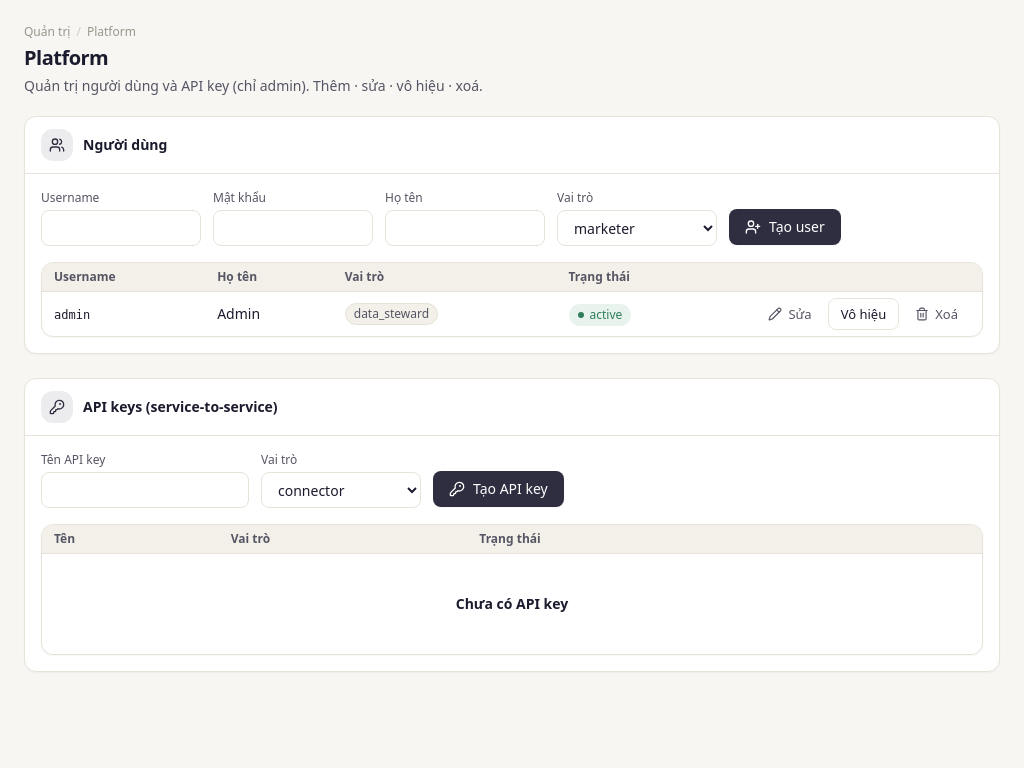
Test case: PlatformScreen › tạo API key hiển thị raw key MỘT lần
This screenshot has width=1024, height=768.
Step 1. Type "pos-connector" into the field named "tên api key" → (145, 490), box [41,472,249,508]
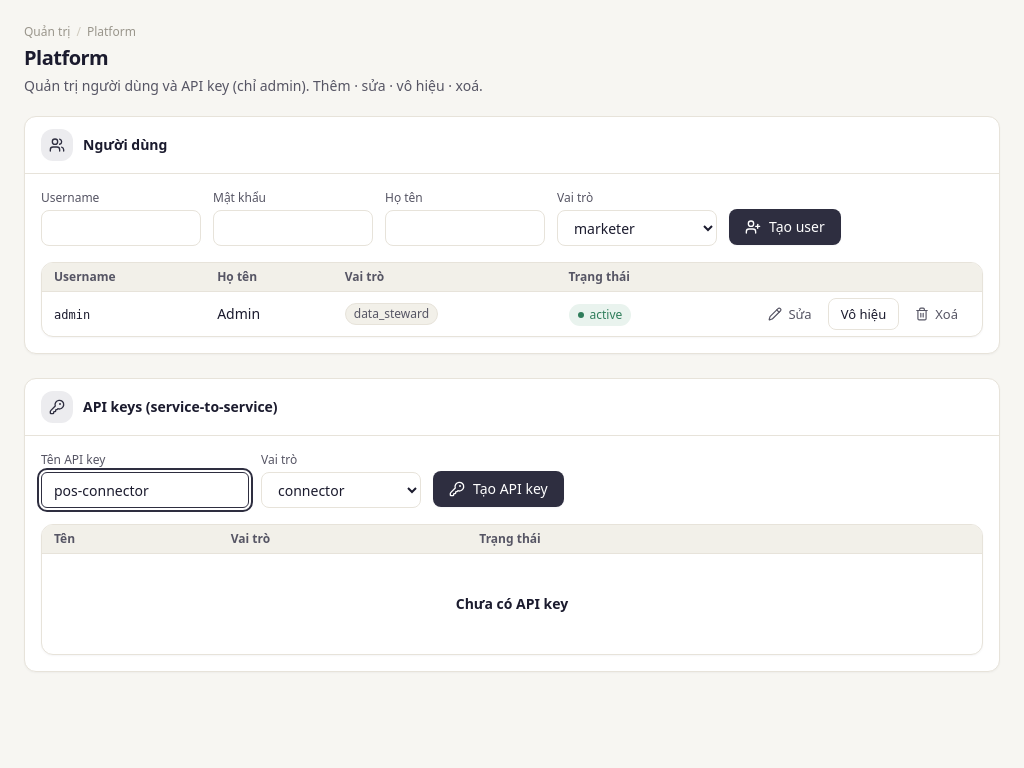
Step 2. Select "connector" in the dropdown named "vai trò api key" → (341, 490), box [261,472,421,508]
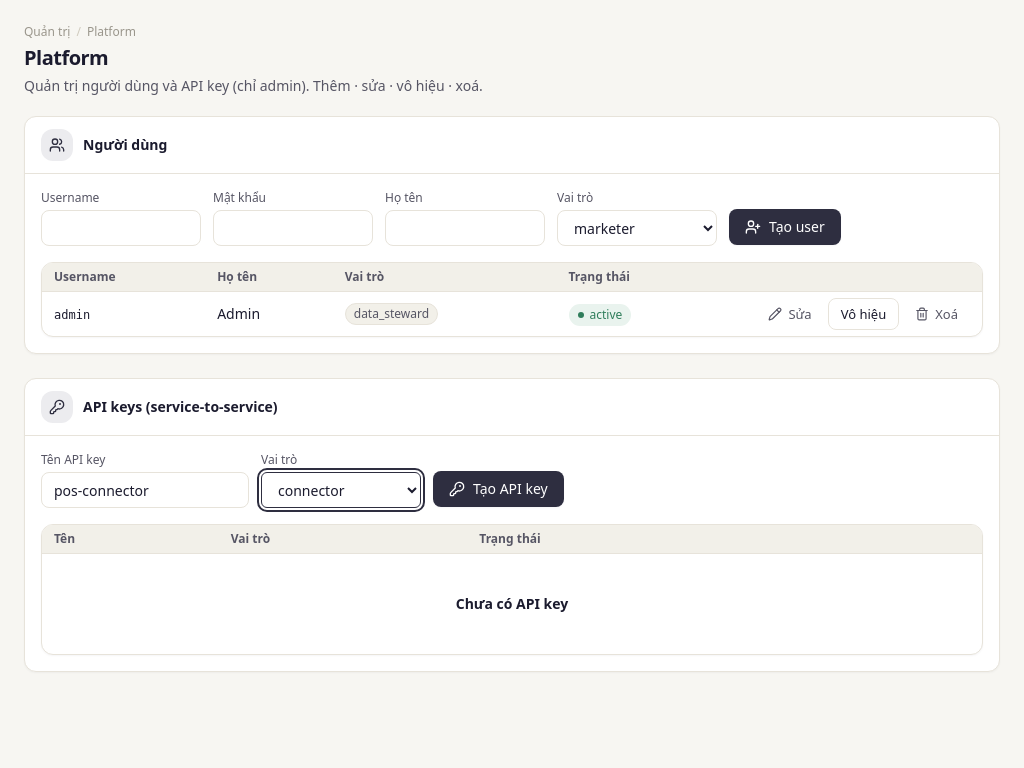
Step 3. Click the button "Tạo API key" → (498, 489), box [433,471,564,507]
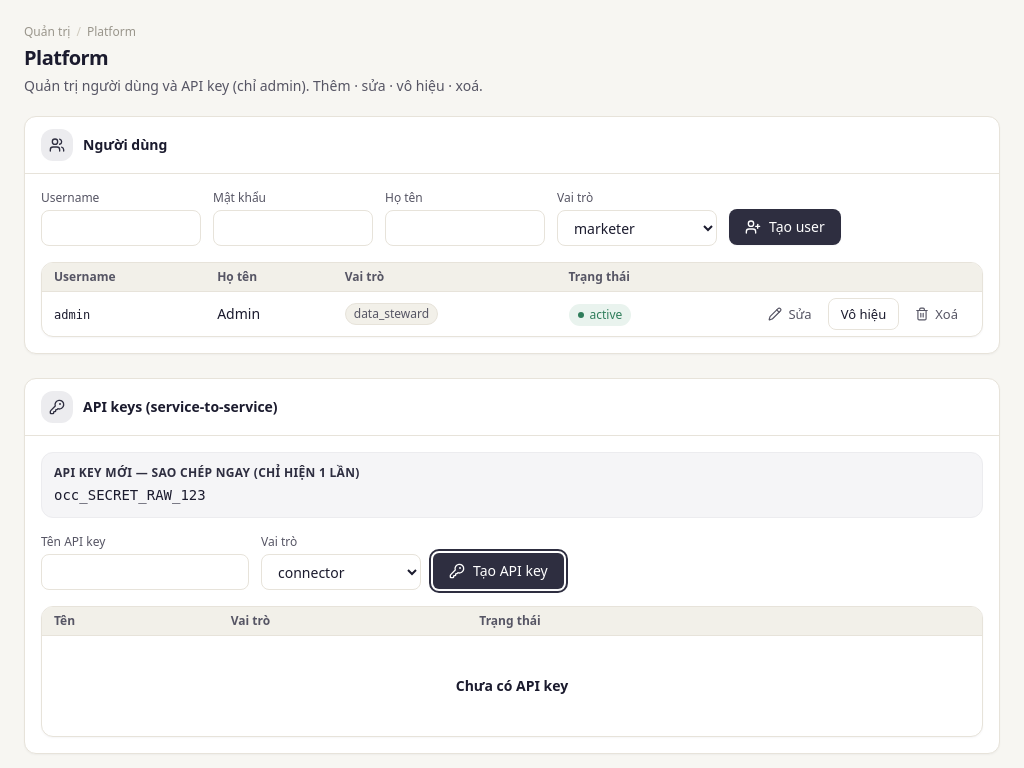
expect the text with test id "new-raw-key" reads "occ_SECRET_RAW_123": met, box [54,487,206,503]
